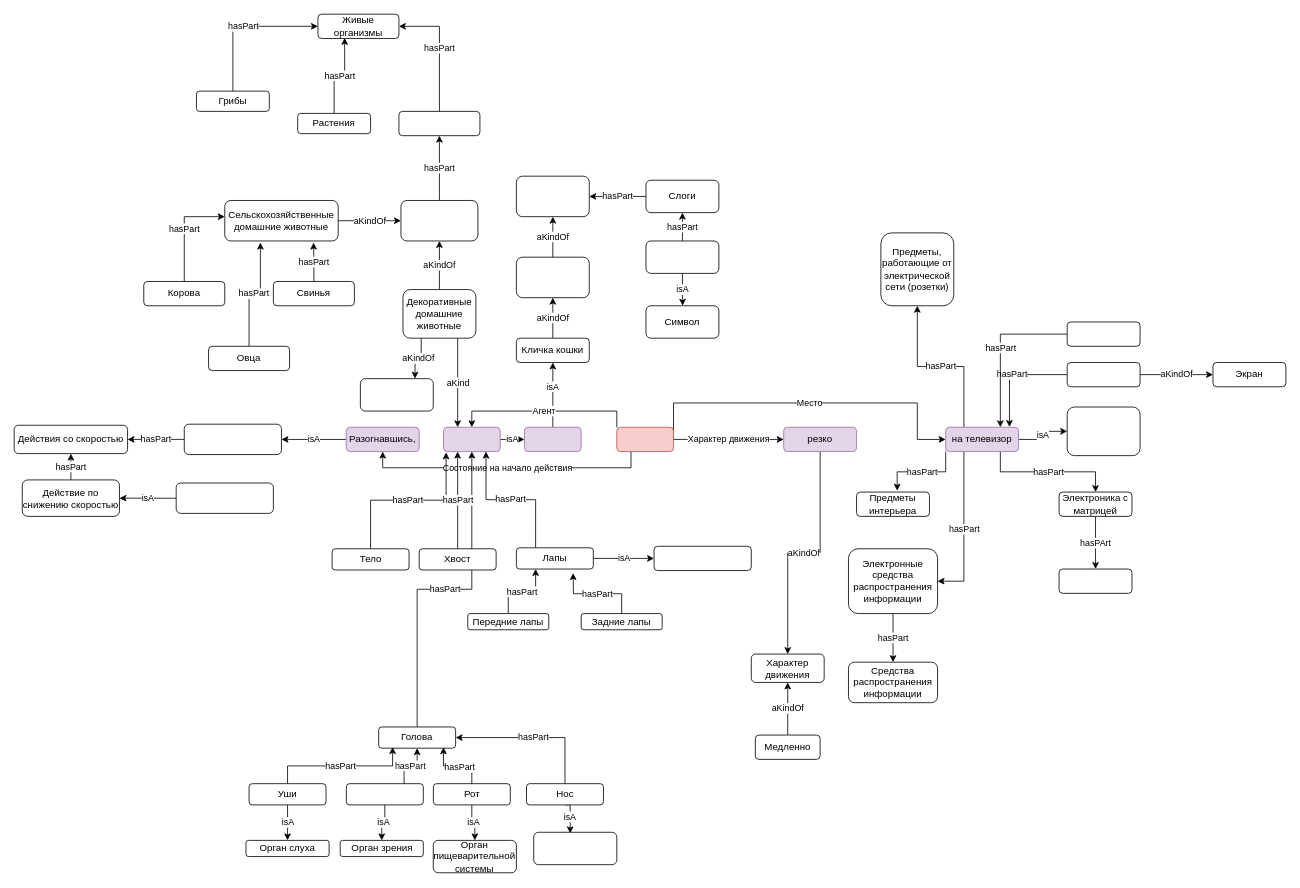
This 1300x888 diagram has some shape labels left out. Here are the shapes that lost their labels. From the top down, the centre of each, then its label:
At point 439,123: "Животные".
At point 552,196: "Кличка животного".
At point 439,220: "Домашние животные".
At point 682,256: "Буквы".
At point 552,277: "Кличка животного (кот)".
At point 1103,333: "Кнопки управления".
At point 396,394: "Собака".
At point 1103,374: "ЖК Экран".
At point 232,439: "Действие по набору скорости".
At point 471,439: "кошка".
At point 552,439: "Муся".
At point 645,439: "прыгнула".
At point 1103,431: "Прямоугольный черный предмет".
At point 224,497: "Замедление".
At point 702,558: "Орган передвижения".
At point 1095,580: "Электроника".
At point 384,794: "Глаза".
At point 575,848: "Орган обоняния".
